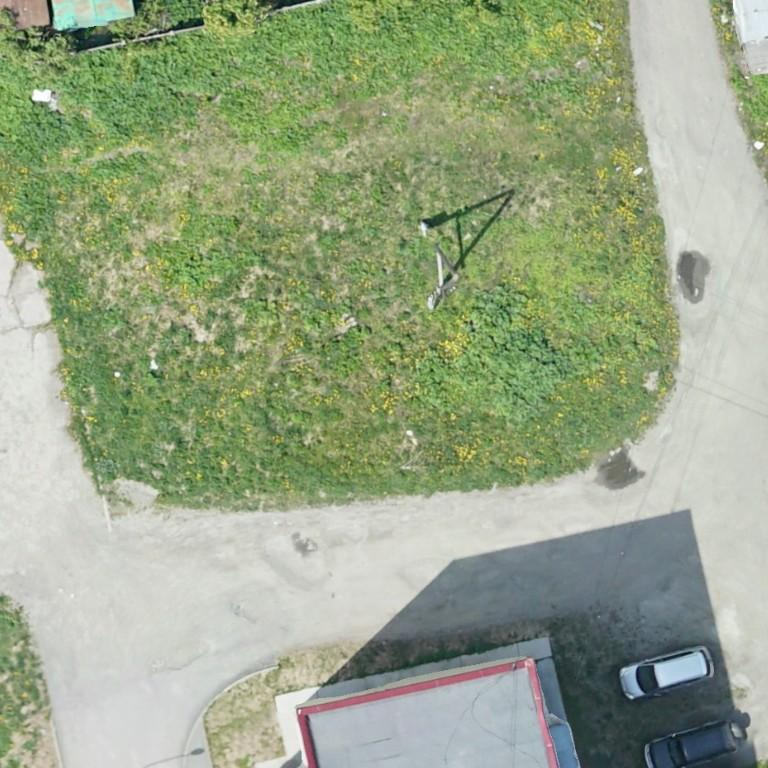hogweed: (61, 0, 402, 141), (416, 287, 603, 420), (26, 103, 89, 151), (15, 181, 52, 238)
